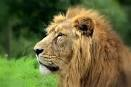lion: (30, 9, 130, 87)
